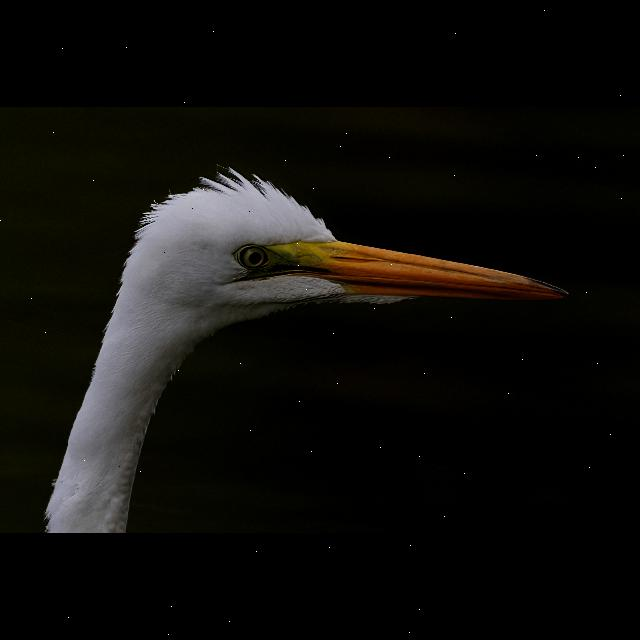egret: (20, 158, 572, 534)
